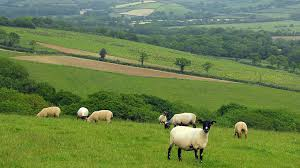sheep: (166, 119, 213, 164), (89, 108, 120, 126), (168, 113, 196, 132), (36, 106, 67, 120), (75, 104, 96, 122), (233, 120, 248, 141), (155, 112, 172, 126)
